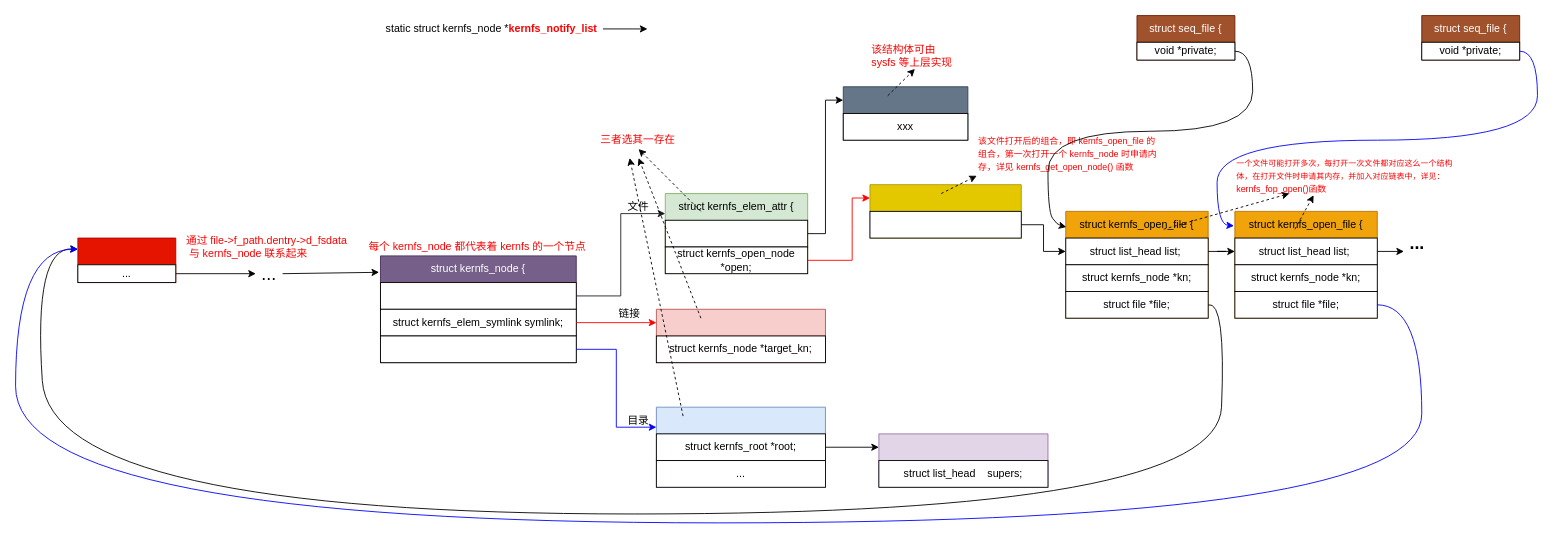
Image size: 1553x538. Some labels were removed from this diagram. Here are the shapes that lost their labels. From the top down, the box of each, then its label:
(842, 86, 968, 140): struct kernfs_ops {
(869, 184, 1021, 238): struct kernfs_open_node {
(869, 210, 1021, 238): struct list_head files;
(664, 219, 808, 247): const struct kernfs_ops *ops;
(77, 237, 176, 283): struct file{
(380, 282, 576, 309): struct kernfs_elem_attr attr;
(380, 335, 576, 363): struct kernfs_elem_dir dir;
(655, 308, 825, 363): struct kernfs_elem_symlink {
(655, 406, 825, 487): struct kernfs_elem_dir {
(878, 433, 1048, 487): struct kernfs_root {
